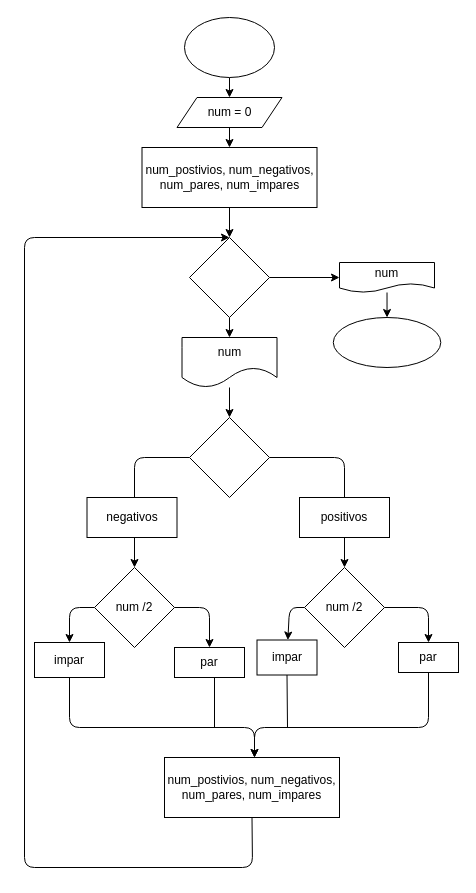
Some shapes in this 476 by 893 pixel diagram are drawn without their labels. Here are the shapes that lost their labels. From the top down, the centre of each, then its label:
At (x=229, y=47): "INICIO".
At (x=229, y=277): "num != 0".
At (x=386, y=342): "FIN".
At (x=229, y=457): "num > 0".
